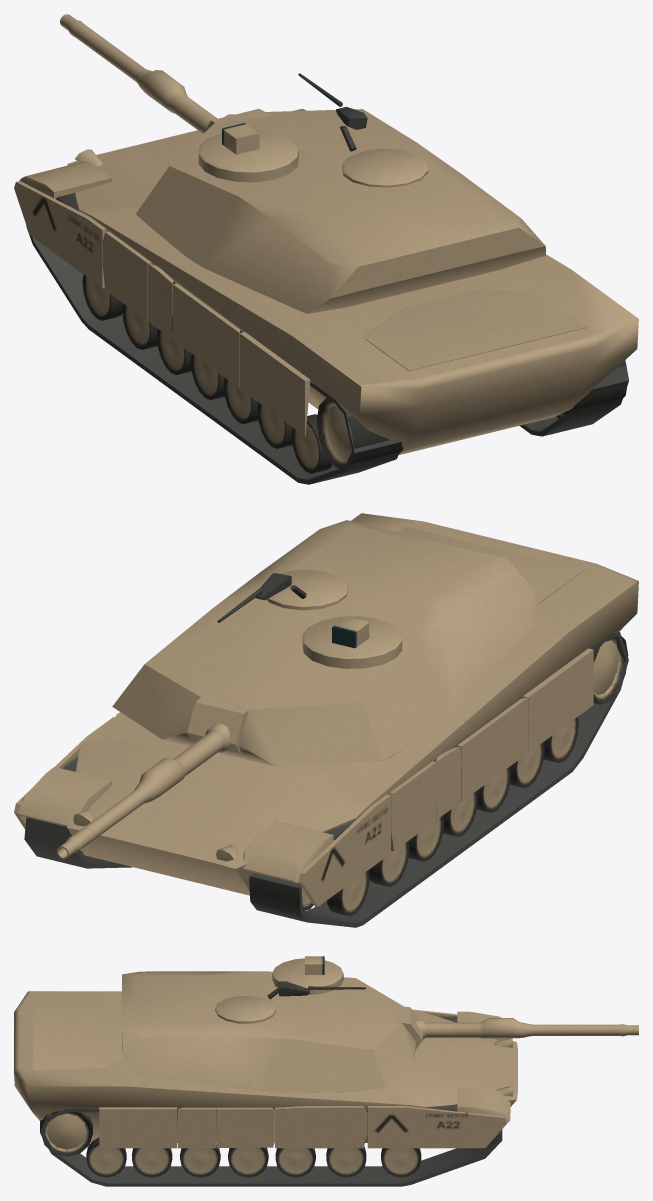
The picture shows the model from 3 angles, top to bottom: view 1: azimuth 30°, elevation 25°; view 2: azimuth 150°, elevation 25°; view 3: azimuth 270°, elevation 25°; orthographic projection. The views are drawn at different scales.
Parts seen in each view (by area): view 1: Body, Turret, Gun; view 2: Body, Turret, Gun; view 3: Body, Turret, Gun.
Part boxes in pixels (x1=…): Body: x1=14, y1=108, x2=638, y2=484; Turret: x1=136, y1=73, x2=545, y2=313; Gun: x1=60, y1=14, x2=272, y2=133; Body: x1=14, y1=513, x2=638, y2=927; Turret: x1=112, y1=520, x2=535, y2=766; Gun: x1=56, y1=689, x2=248, y2=859; Body: x1=14, y1=991, x2=517, y2=1186; Turret: x1=122, y1=956, x2=415, y2=1092; Gun: x1=391, y1=1006, x2=638, y2=1048.
Bounding box in the file's own units: 3.66 × 2.91 × 9.79.
Materials: 1 (1 with a texture image).
